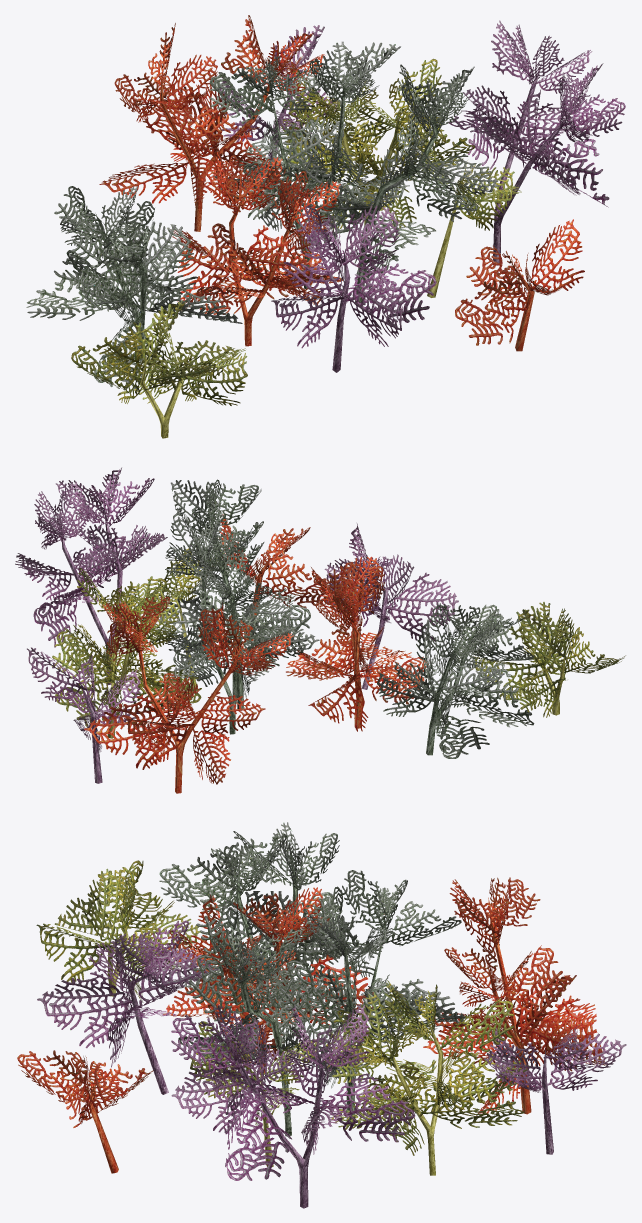
Rendered from coral.glb.
The picture shows the model from 3 angles, top to bottom: view 1: azimuth 30°, elevation 25°; view 2: azimuth 150°, elevation 25°; view 3: azimuth 270°, elevation 25°; orthographic projection. The views are drawn at different scales.
Visible parts, largest first — view 1: LOD0; view 2: LOD0; view 3: LOD0.
Boxes of the visible parts, x1,y1,x2,y2 form: LOD0: [26, 15, 625, 438]; LOD0: [15, 467, 625, 793]; LOD0: [17, 822, 626, 1208].
Size of the model in its own units: 0.1752 by 0.0652 by 0.1474.
5 materials, 5 textured.
